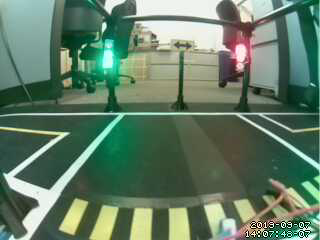Left_Right_sign: (172, 38, 197, 53)
Traffic_light_green: (103, 39, 113, 69)
Traffic_light_red: (235, 43, 247, 72)
